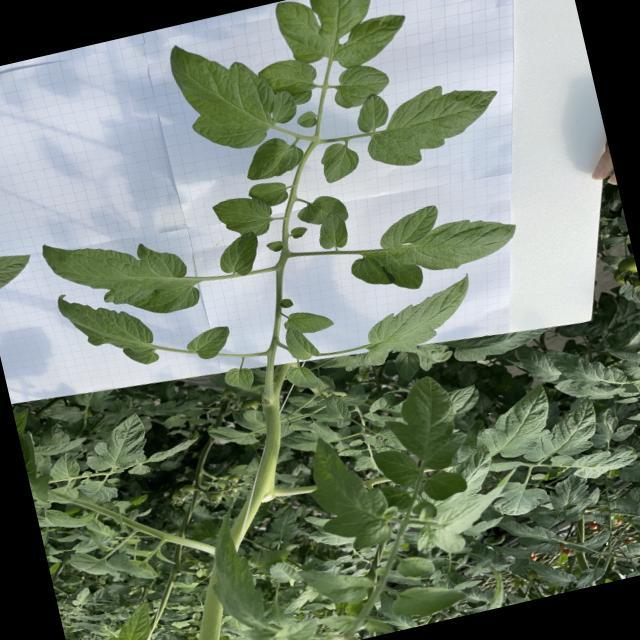Tomato healthy leaf: (340, 186, 526, 304), (39, 212, 202, 338), (166, 21, 304, 161), (350, 65, 510, 176), (298, 422, 404, 558), (348, 272, 484, 369), (54, 276, 160, 381), (376, 370, 472, 480), (196, 504, 270, 638), (423, 466, 531, 556), (472, 382, 558, 463), (544, 332, 630, 406), (514, 396, 602, 466), (446, 318, 555, 368), (78, 410, 152, 476), (297, 556, 377, 616), (254, 53, 324, 113), (388, 575, 471, 621), (326, 58, 394, 112), (239, 132, 307, 184), (211, 190, 276, 237), (489, 473, 551, 520), (96, 598, 164, 640), (569, 443, 640, 482), (493, 510, 558, 552), (214, 230, 265, 280), (515, 338, 562, 388), (294, 190, 349, 232), (372, 444, 421, 490), (256, 502, 308, 545), (316, 138, 363, 184), (527, 550, 577, 593), (183, 324, 236, 364), (206, 414, 260, 453), (280, 424, 343, 456), (282, 303, 336, 339), (420, 466, 469, 504), (66, 544, 115, 582), (0, 247, 37, 297), (377, 586, 417, 632), (36, 501, 87, 536), (312, 208, 351, 252), (146, 436, 204, 464), (72, 475, 121, 508), (282, 322, 320, 364), (246, 177, 290, 211), (278, 583, 322, 614), (394, 552, 436, 582), (46, 449, 82, 484), (284, 362, 320, 394), (221, 363, 256, 395), (44, 400, 84, 428), (392, 348, 423, 384), (266, 558, 302, 588), (608, 340, 640, 373), (446, 384, 481, 414), (461, 516, 507, 538), (322, 391, 350, 424), (28, 473, 56, 505), (572, 564, 608, 588), (412, 524, 438, 555), (307, 418, 338, 444), (286, 390, 320, 412), (580, 529, 612, 551), (366, 391, 397, 413), (613, 493, 640, 518), (488, 456, 524, 474), (340, 389, 372, 409), (241, 406, 267, 430), (314, 372, 336, 396), (288, 418, 316, 436), (549, 452, 576, 468), (621, 537, 640, 558), (363, 433, 384, 451), (128, 462, 150, 478), (337, 446, 362, 460), (612, 395, 638, 407), (362, 409, 381, 424), (632, 488, 640, 517), (625, 409, 640, 423)
